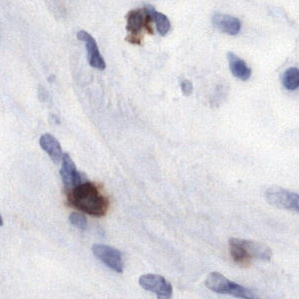Lymphocyte: (67, 181, 110, 215)
